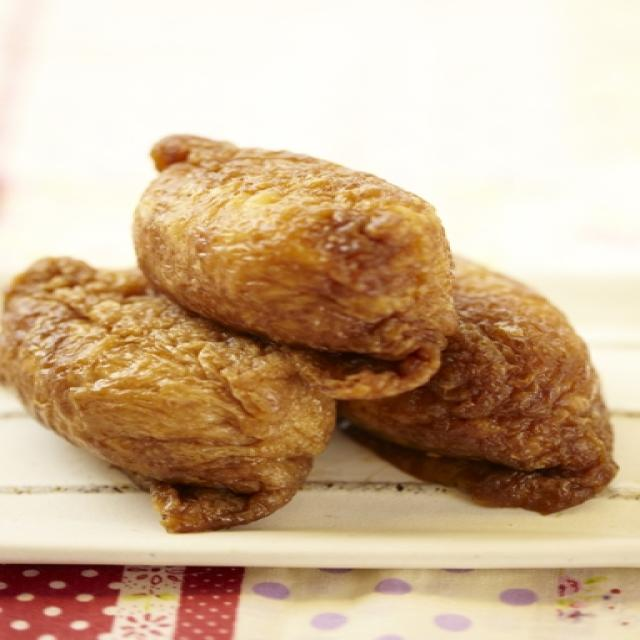寿司卷物: (15, 61, 635, 597)
